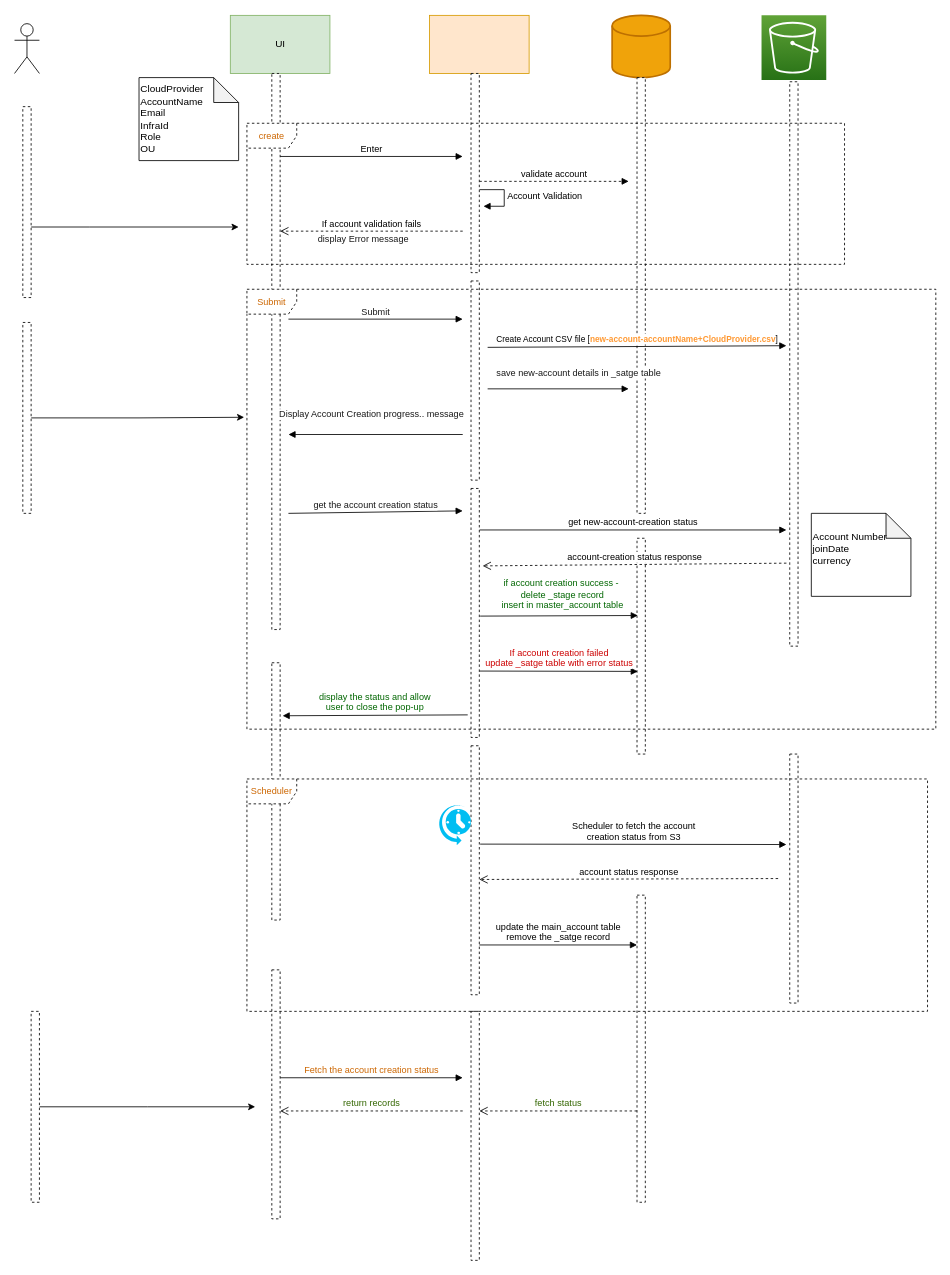
This 950x1275 diagram has some shape labels left out. Here are the shapes that lost their labels. From the top down, the centre of each, then its label:
At [26,48]: "Actor".
At [479,44]: "Controller/Service".
At [641,46]: "Database".
